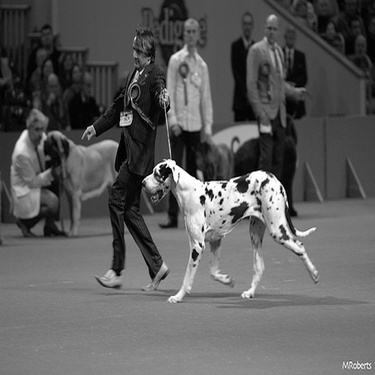dog: (138, 154, 326, 304), (23, 127, 156, 238), (176, 126, 248, 194)
